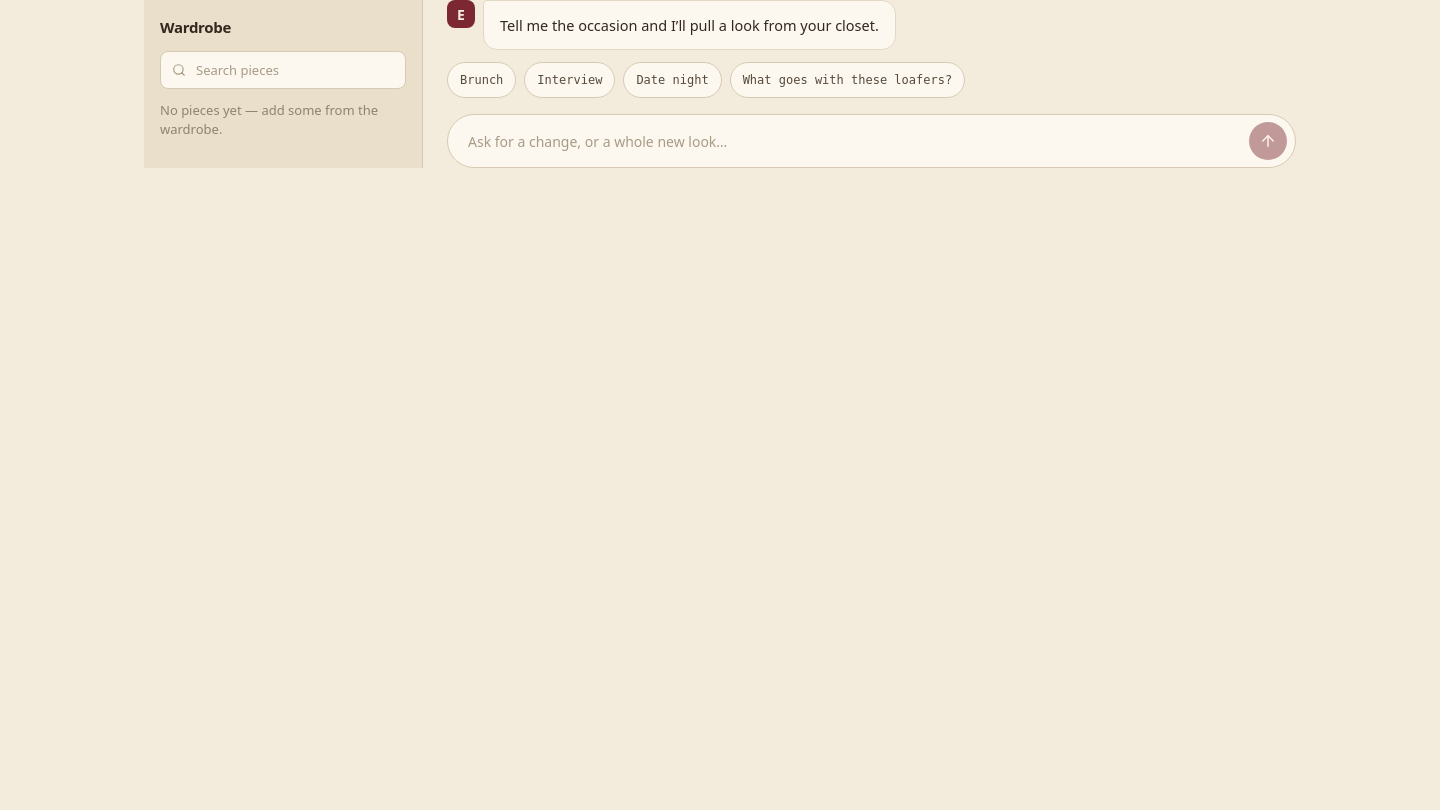
Test: Stylist route › regenerates: "Show me another" POSTs that user turn with the full thread
Type "streetwear today" into the field named "message the stylist".
click(852, 142); type("streetwear today")  # box 466,131 -> 1239,152
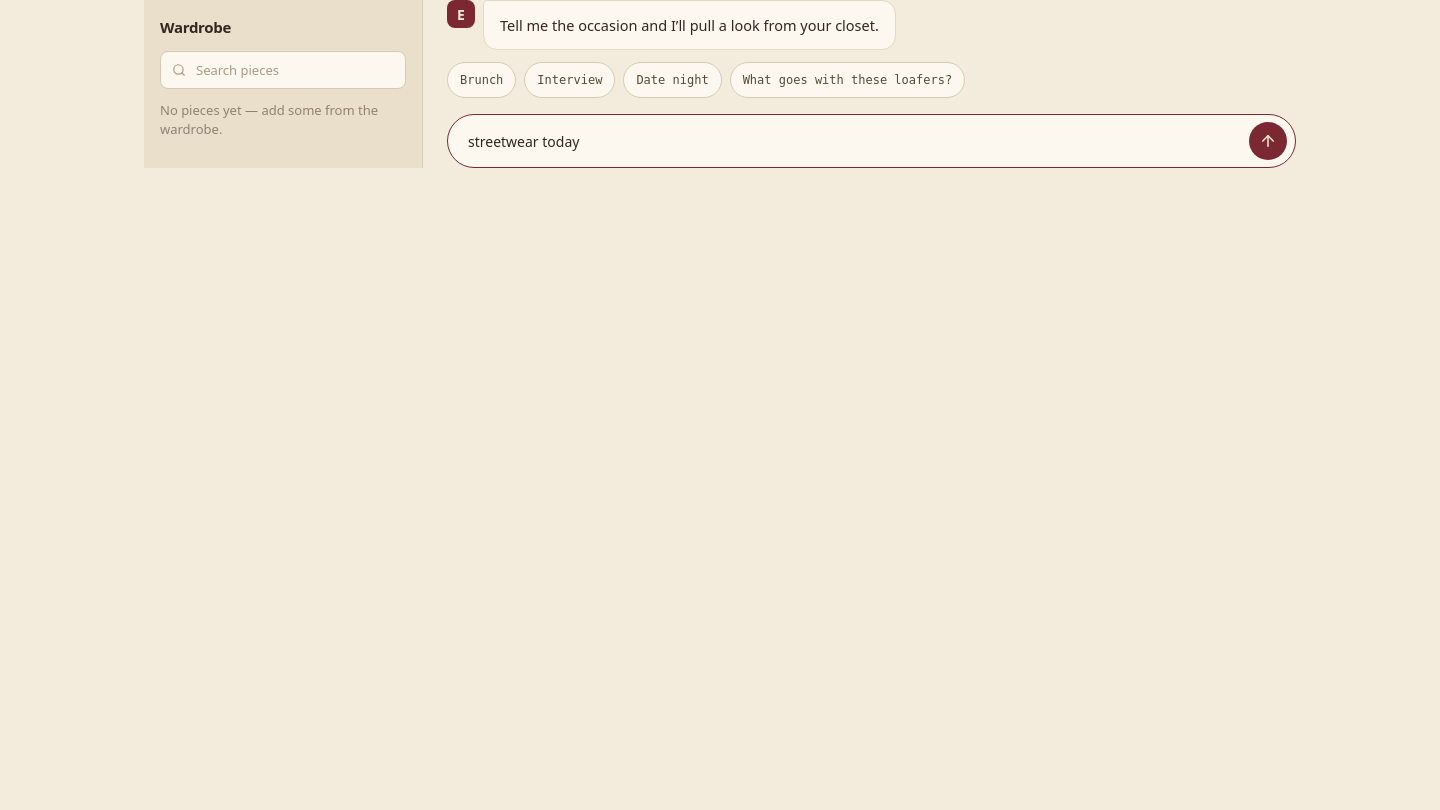
Click the button named "send".
click(1268, 142)  # box 1249,122 -> 1287,160
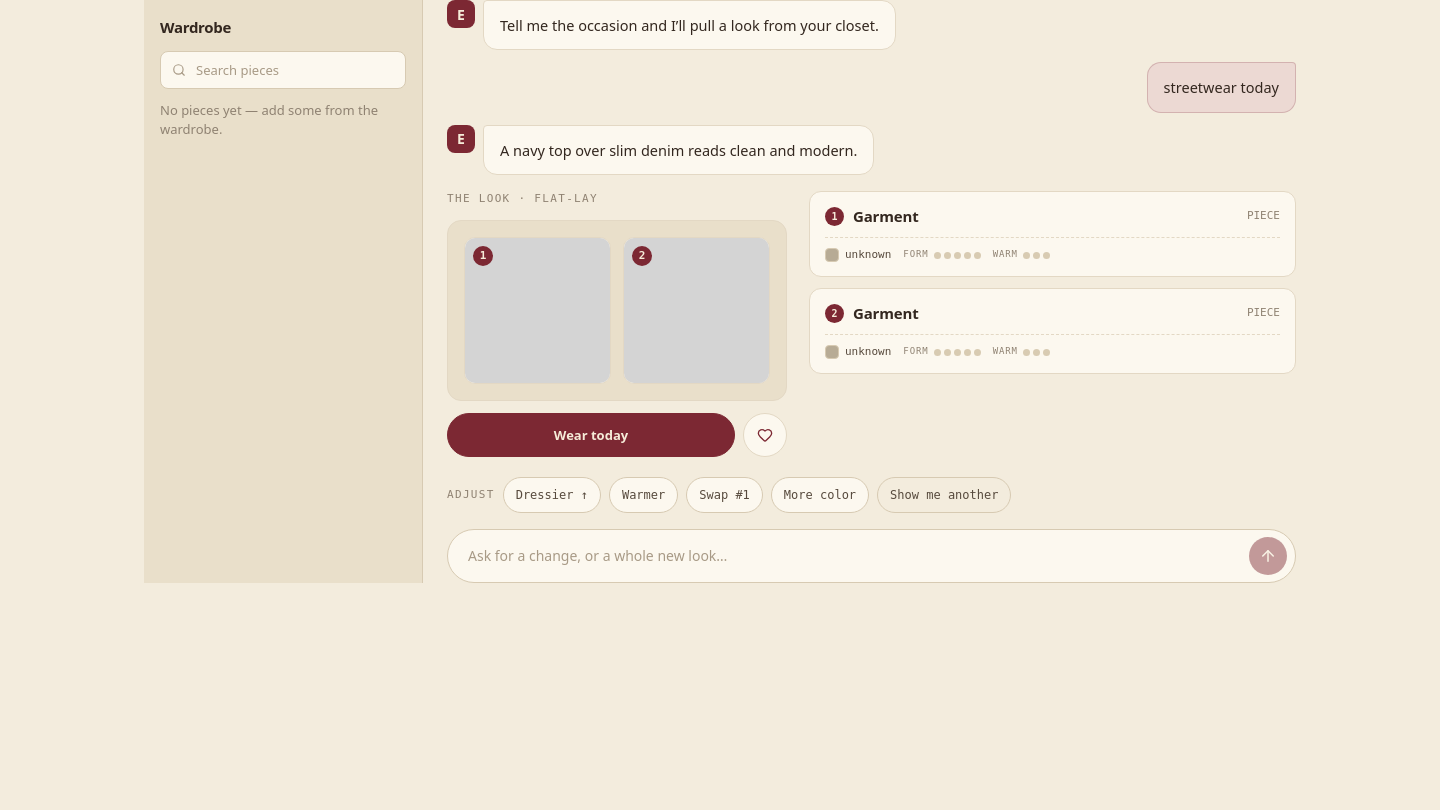
Result: the text "A navy top over slim denim reads clean and modern." is shown at 483,125 -> 874,175
Click the button "Show me another".
click(944, 495)  # box 877,477 -> 1012,513
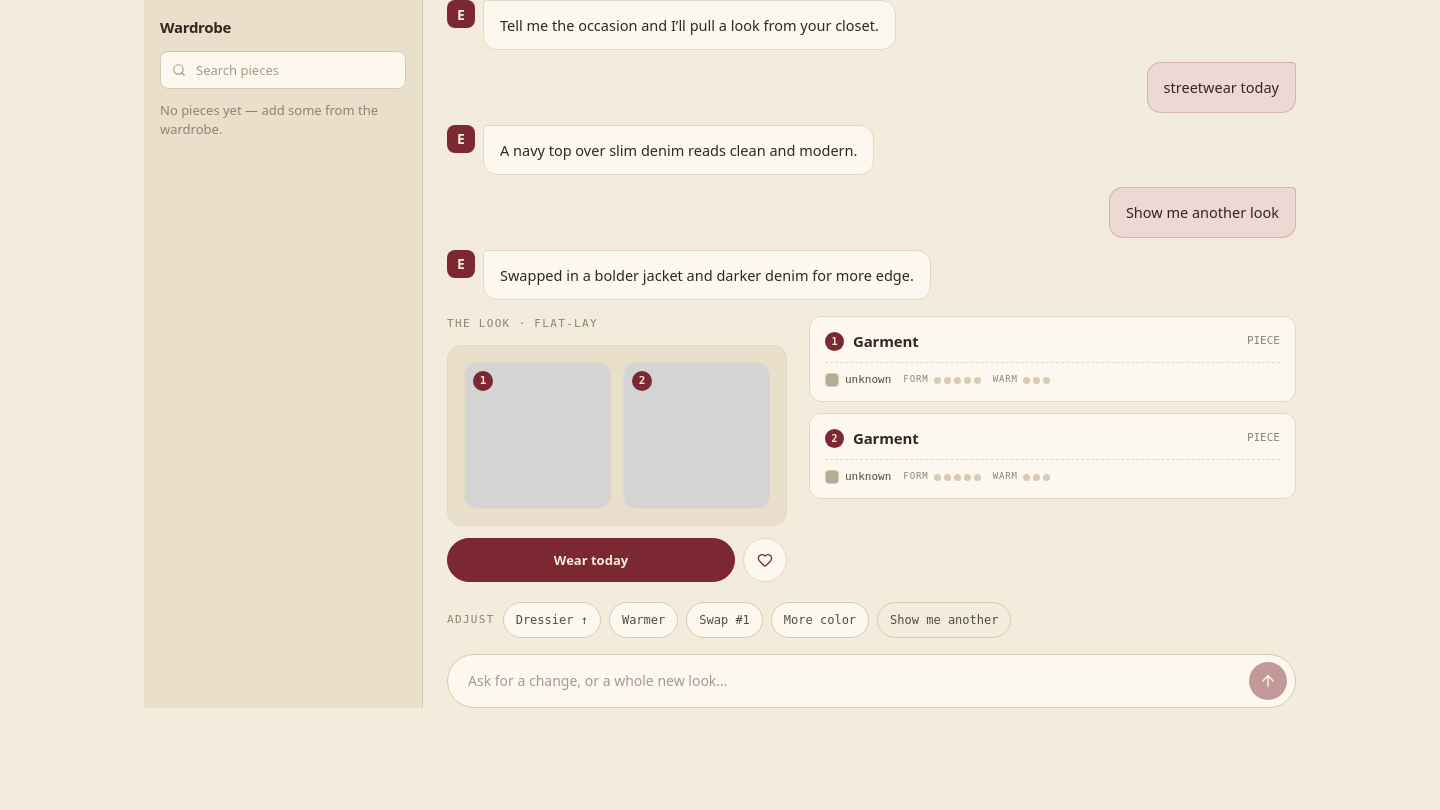
Result: the text "Swapped in a bolder jacket and darker denim for more edge." is shown at 483,250 -> 931,300
